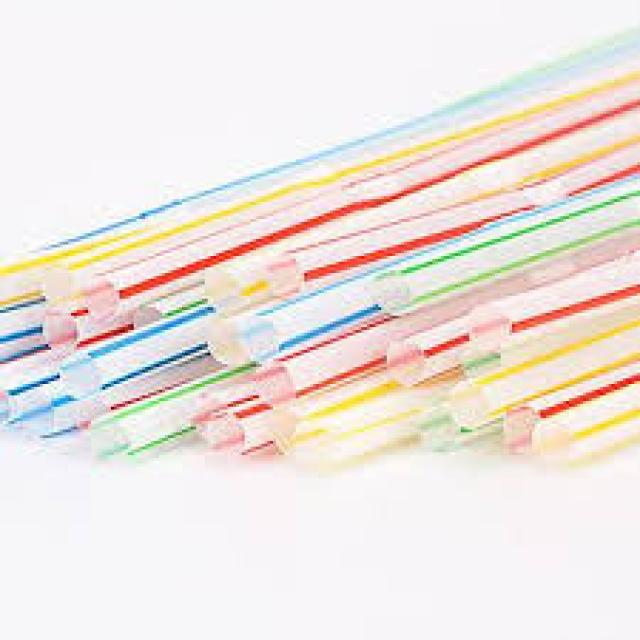plastic: (350, 141, 639, 334)
